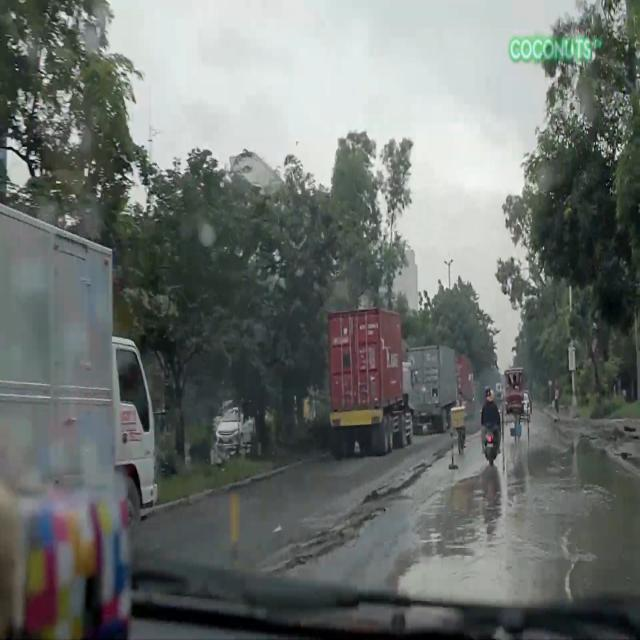truck: (0, 194, 160, 538), (326, 312, 416, 458), (409, 344, 460, 436), (481, 388, 502, 468)
